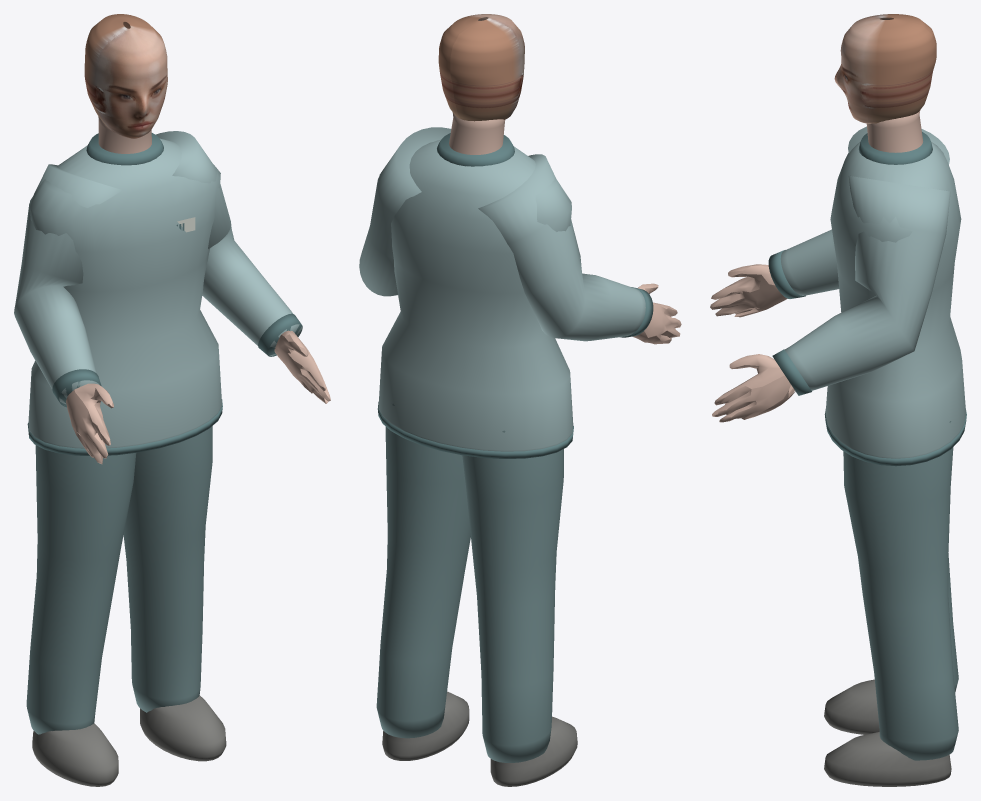
The model's file is WardSubject01.fbx.
3 renders of one model, left to right at view 1: azimuth 30°, elevation 25°; view 2: azimuth 150°, elevation 25°; view 3: azimuth 270°, elevation 25°, orthographic.
Visible parts, largest first — view 1: Body, Head; view 2: Body, Head; view 3: Body, Head.
Boxes of the visible parts, x1,y1,x2,y2 form: Body: (14,116,330,786); Head: (84,14,167,138); Body: (359,112,681,786); Head: (438,14,524,121); Body: (710,110,966,786); Head: (834,14,936,123).
Bounding box in the file's own units: 0.5797 × 1.66 × 0.528.
